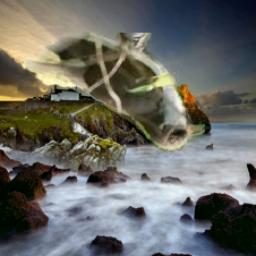Cuckoo: (26, 34, 206, 153)
